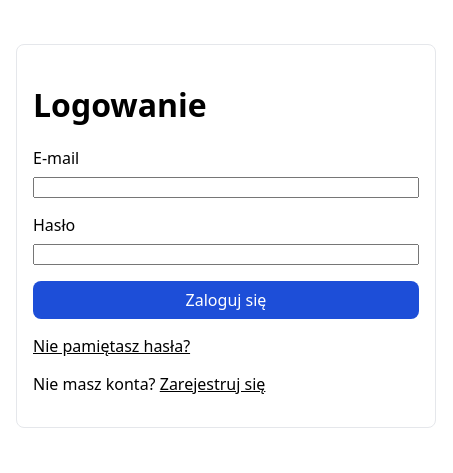
Test: auth pages › maps a 401 login response to a user-friendly message
The width and height of the screenshot is (453, 473).
In the field labelled "E-mail": (226, 187) [33, 177, 419, 198], type "jan@example.com"
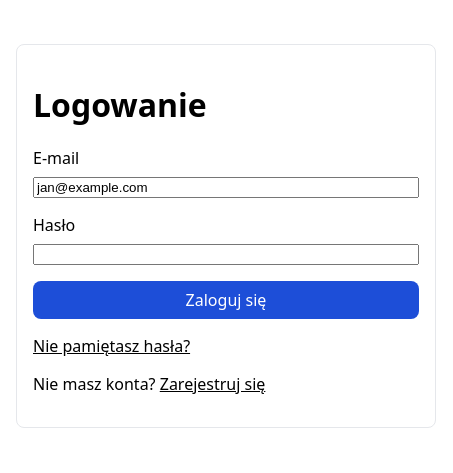
In the password field labelled "Hasło": (226, 254) [33, 244, 419, 265], type "password123"
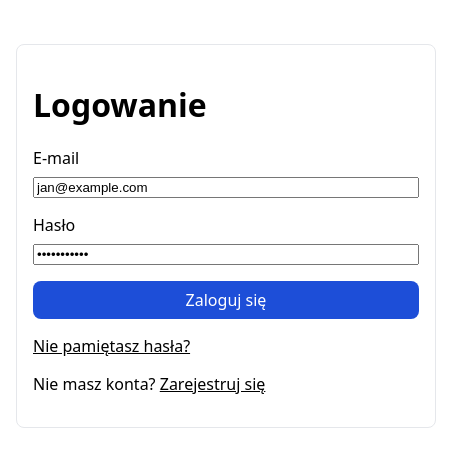
Click the button "Zaloguj się": (226, 300) [33, 281, 419, 319]
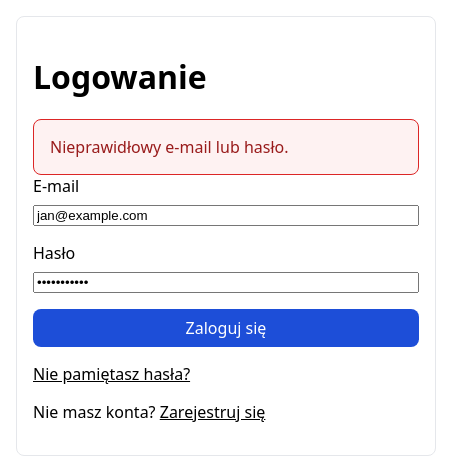
Expected: the message shows "Nieprawidłowy e-mail lub hasło", [50, 136, 288, 158]
